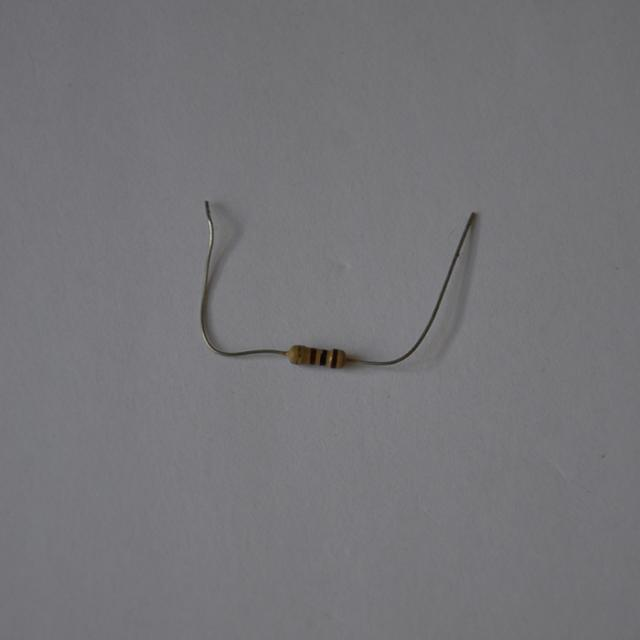Capacitor Electrolitico: (289, 345, 348, 372)
